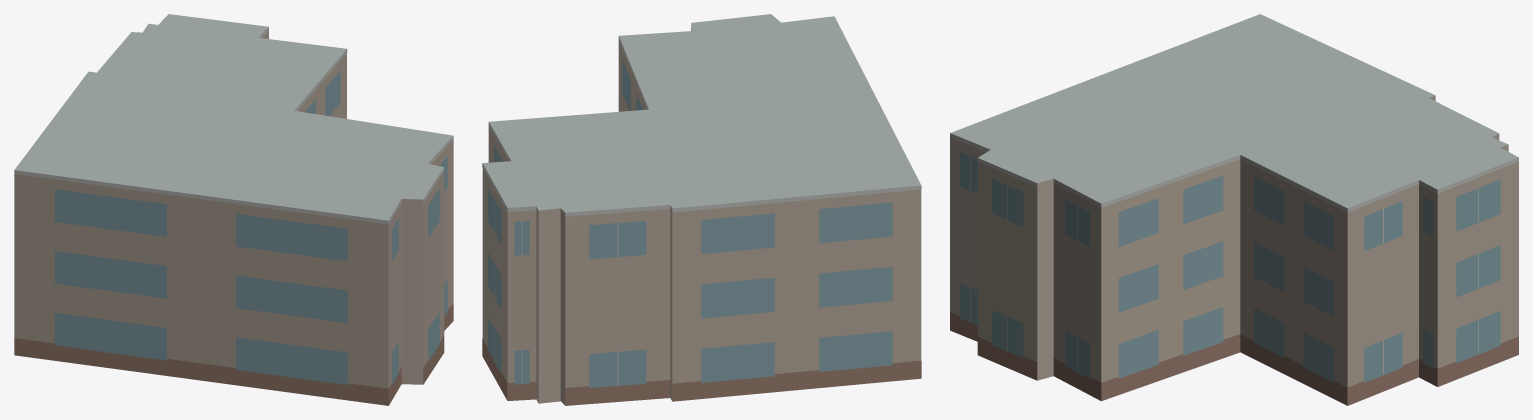
Rendered from survey-upis-32584828.glb.
The picture shows the model from 3 angles, left to right: view 1: azimuth 30°, elevation 25°; view 2: azimuth 150°, elevation 25°; view 3: azimuth 270°, elevation 25°; orthographic projection. The views are drawn at different scales.
Parts seen in each view (by area): view 1: survey-upis-32584828.tmp; view 2: survey-upis-32584828.tmp; view 3: survey-upis-32584828.tmp.
Boxes of the visible parts, x1,y1,x2,y2 form: survey-upis-32584828.tmp: (14, 14, 453, 405); survey-upis-32584828.tmp: (482, 14, 921, 405); survey-upis-32584828.tmp: (950, 14, 1518, 405).
Size of the model in its own units: 24.3 by 11.5 by 30.03.
